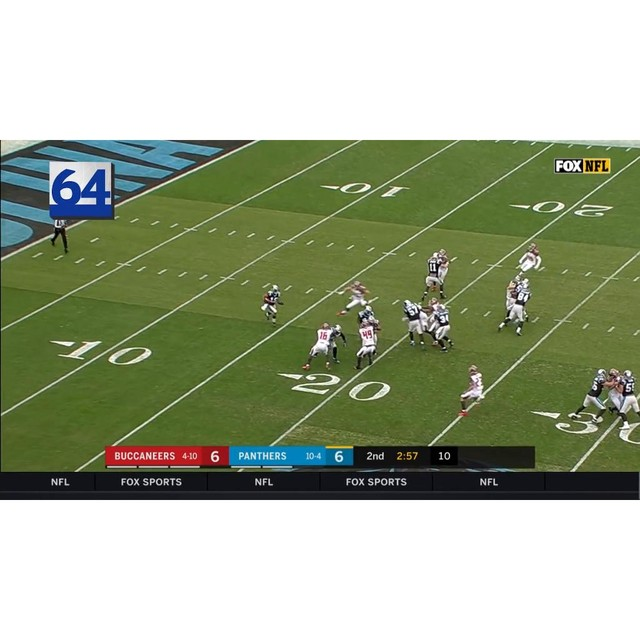american-football-player: (569, 369, 608, 422), (497, 286, 531, 336), (302, 322, 334, 371), (401, 299, 430, 348), (458, 364, 485, 415), (617, 370, 640, 429), (337, 280, 372, 316), (429, 303, 454, 353), (353, 320, 378, 370), (422, 252, 446, 300), (260, 286, 282, 326), (327, 323, 347, 364), (517, 242, 542, 274)
referee: (50, 218, 70, 253)
